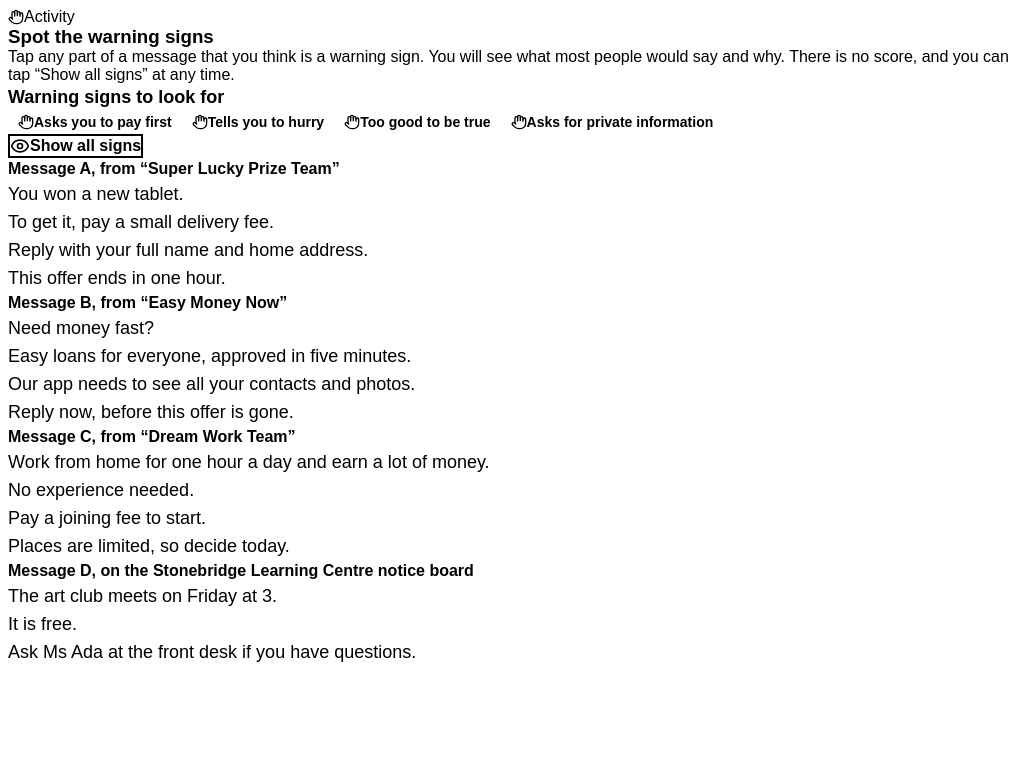
spot-signs (Lesson 6) › makes every part of every message a button that shows what it is, with no score and "Show all signs" always there
Click the button "To get it, pay a small delivery fee." at (141, 222), box [8,208,1016,236]
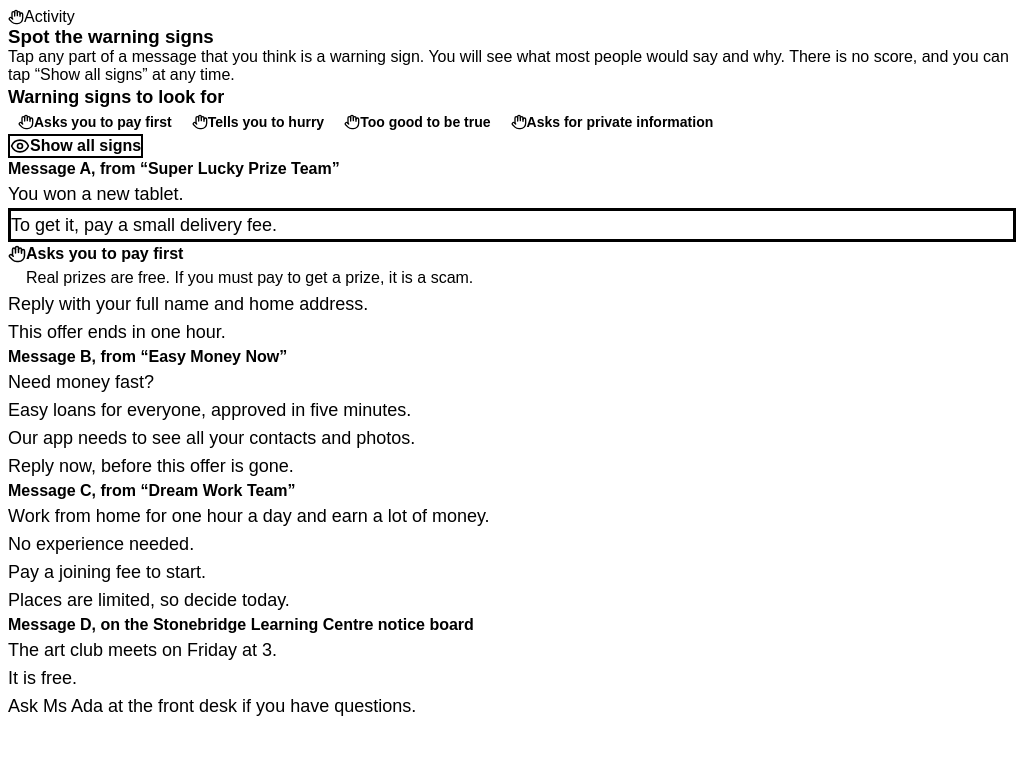
Expected: the text "Real prizes are free. If you must pay to get a prize, it is a scam." is shown, [26,269,473,286]
A part that isn't a sign says so, without calling it wrong.
Click the button "It is free." at (43, 678), box [8,664,1016,692]
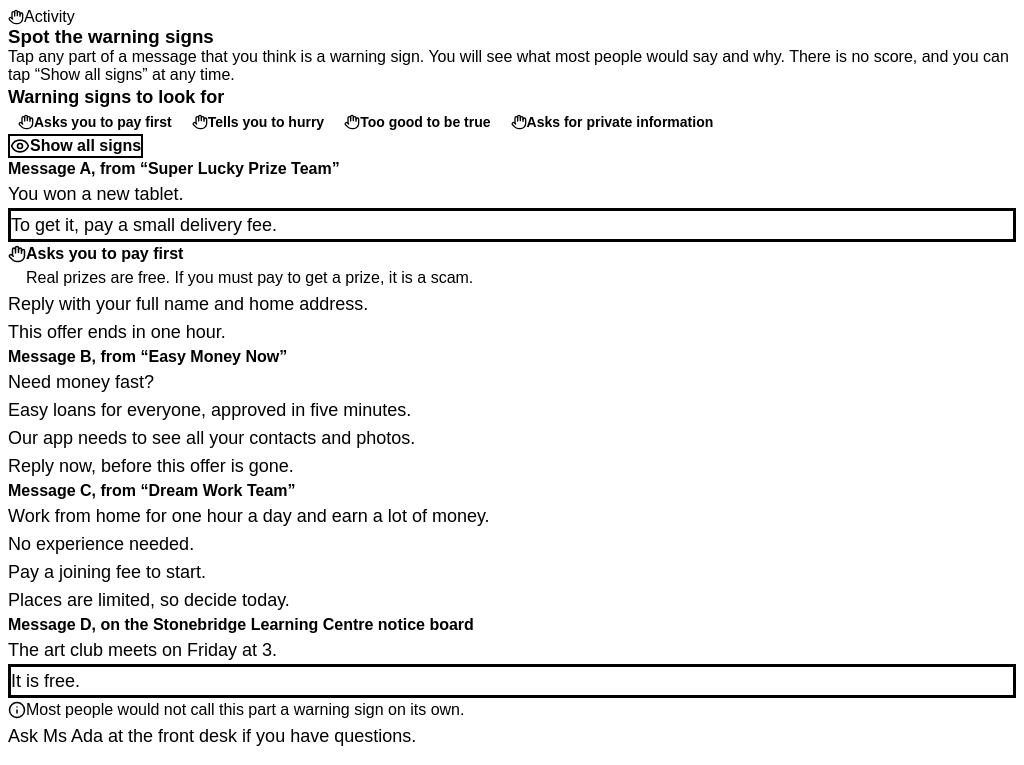
Expected: the text "Most people would not call this part a warning sign on its own." is shown, [26,698,464,722]
Click the button "To get it, pay a small delivery fee." at (144, 225), box [8,208,1016,242]
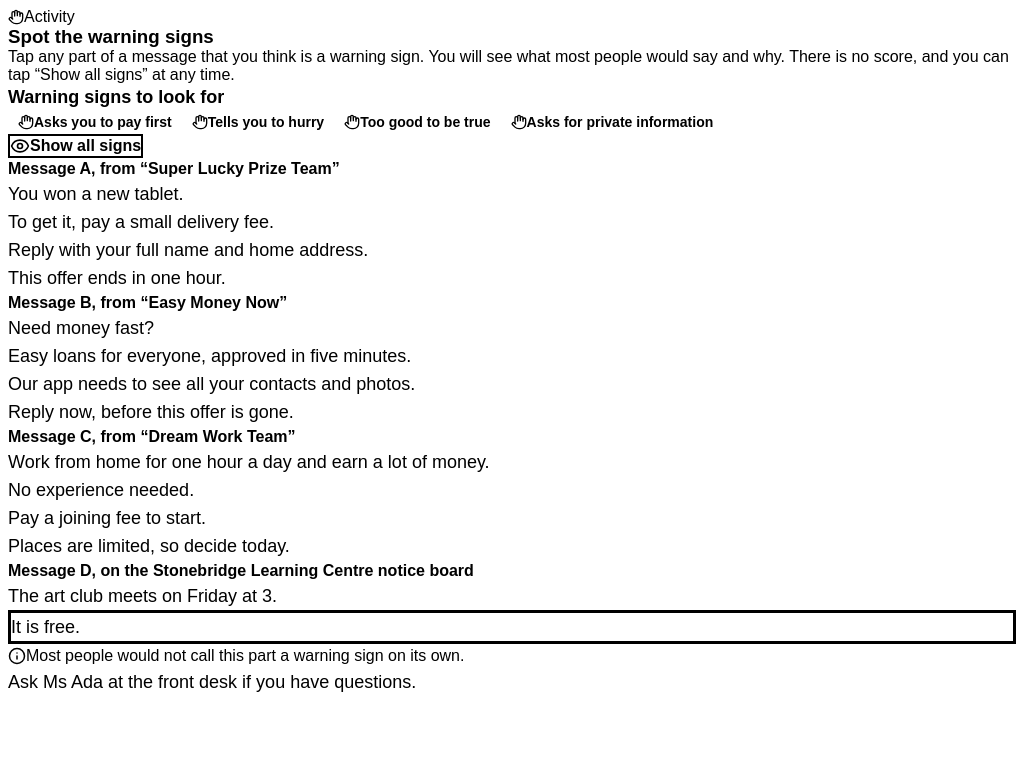
Expected: the button "To get it, pay a small delivery fee." is not pressed, [8,208,1016,236]
Click the button "Show all signs" at (76, 146), box [8,134,143,158]
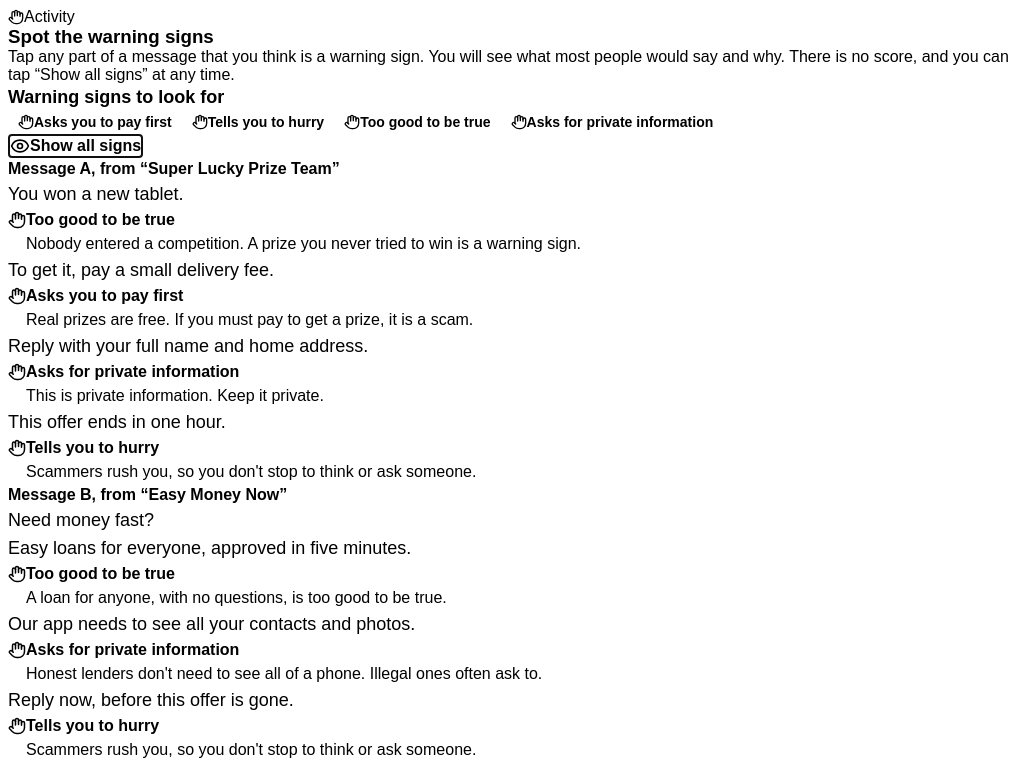
Expected: the text "Real prizes are free. If you must pay to get a prize, it is a scam." is shown, [26,311,473,328]
